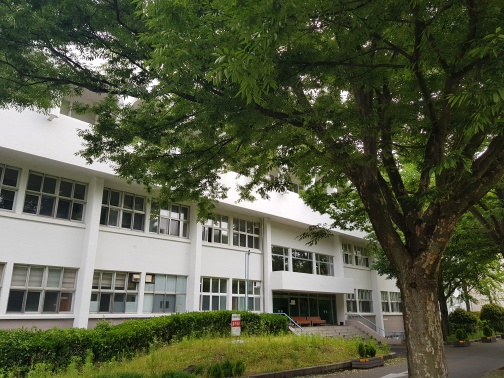Main Building of University: (16, 105, 409, 356), (88, 170, 272, 322), (256, 224, 376, 343)
